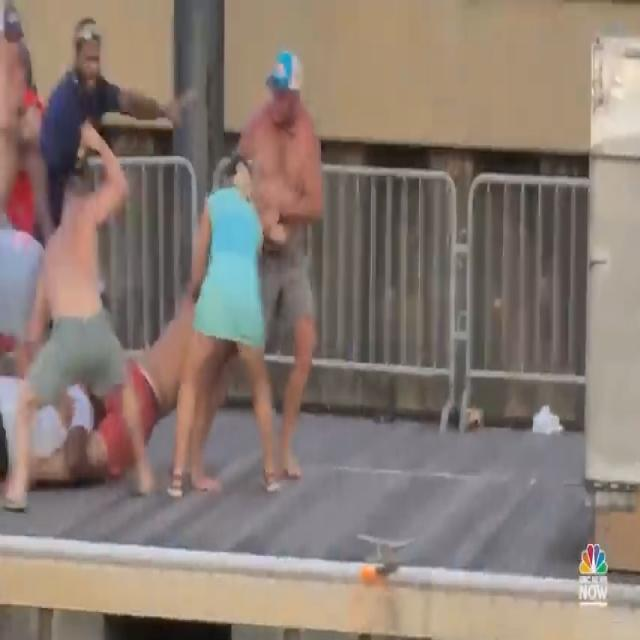fight: (4, 11, 336, 520)
